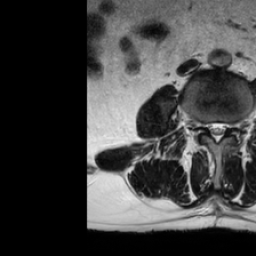CCS_normal: (212, 115, 220, 147)
LFS_stenosis: (228, 117, 235, 135)
LLS_normal: (220, 117, 227, 140)
RFS_stenosis: (199, 117, 207, 139)
RLS_stenosis: (207, 118, 213, 139)
